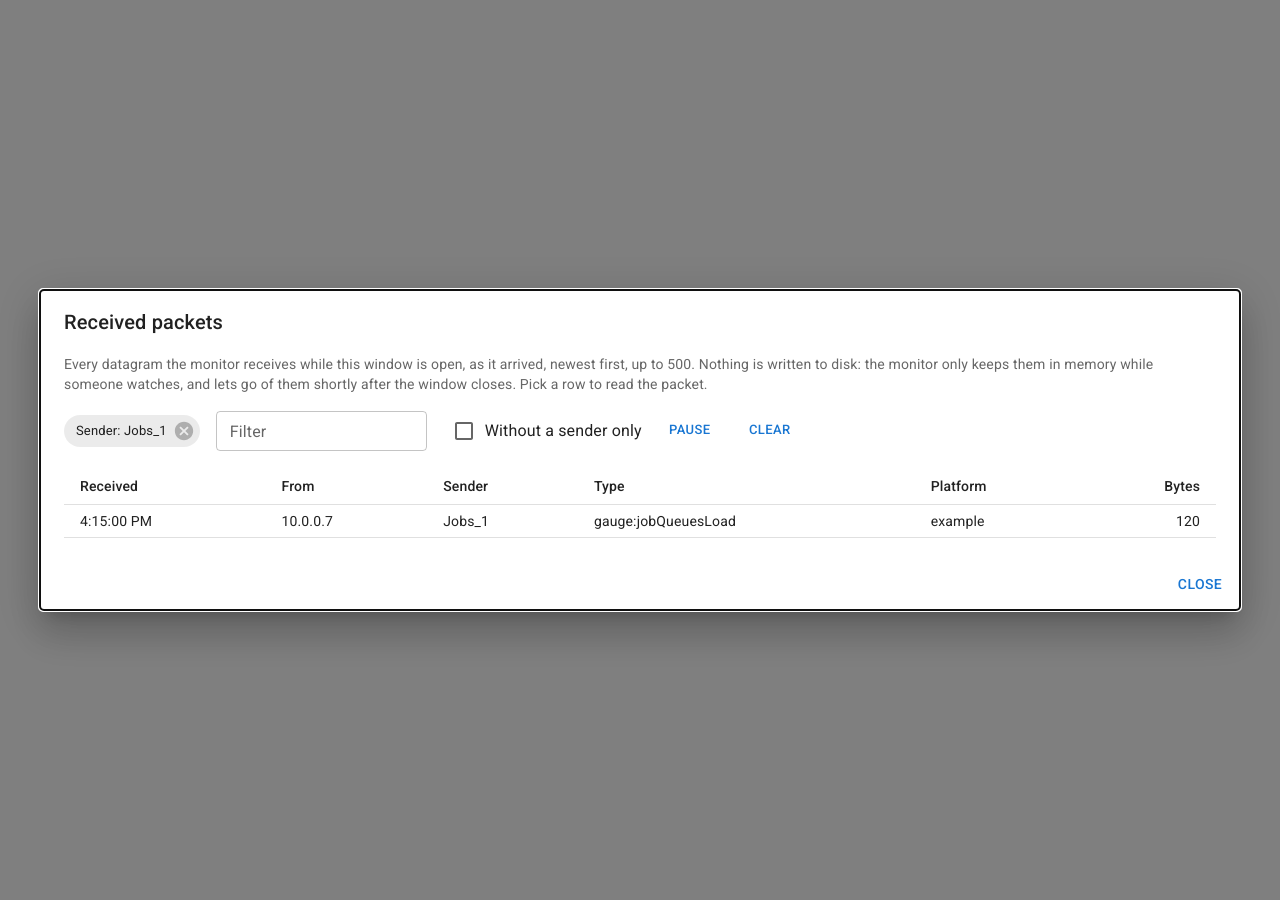
Scenario: PacketsDialog › opens on one sender and lets go of it
Check: the text "Jobs_1" is shown, box x1=427 y1=504 x2=578 y2=537
Check: the text "(none)" is not shown
Click the icon with test id "CancelIcon" at (184, 431), box x1=173 y1=420 x2=195 y2=442
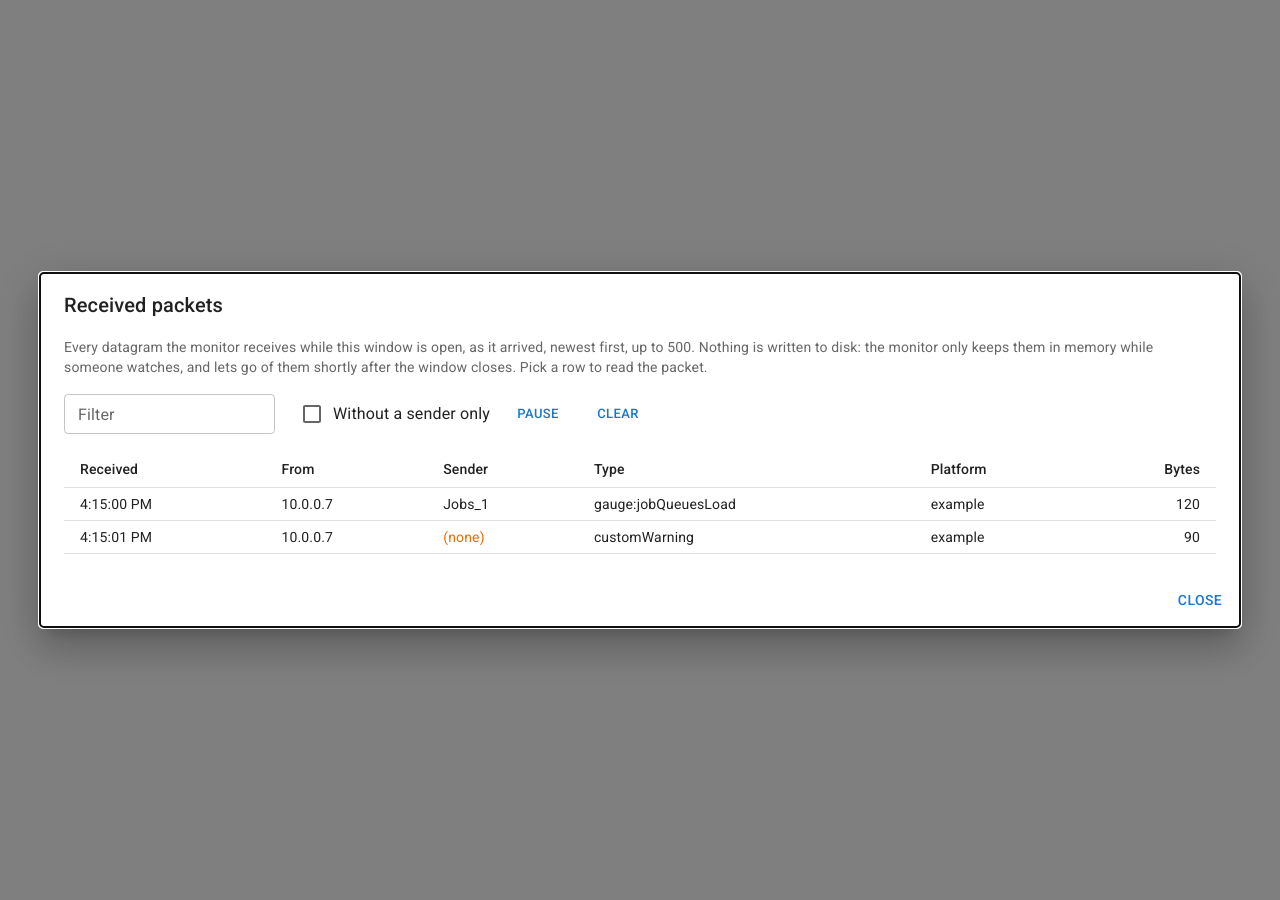
Check: the text "(none)" is shown, box x1=427 y1=521 x2=578 y2=554
